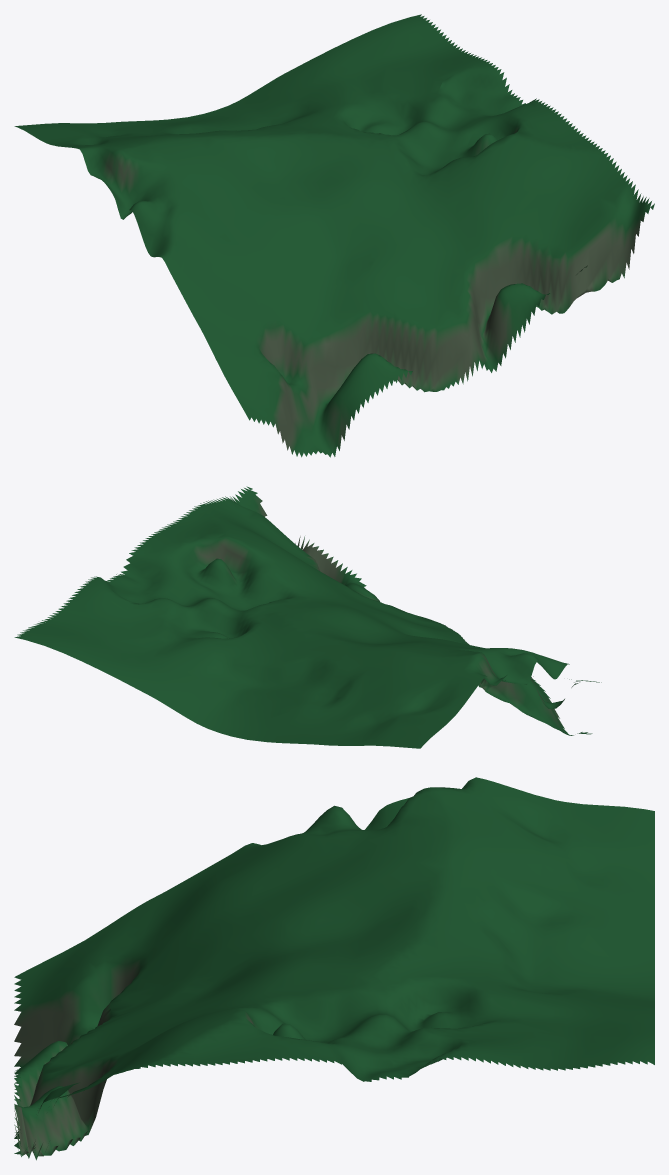
The model's file is payo_land_xm1_ym2_lod1.glb.
The picture shows the model from 3 angles, top to bottom: view 1: azimuth 30°, elevation 25°; view 2: azimuth 150°, elevation 25°; view 3: azimuth 270°, elevation 25°; orthographic projection. The views are drawn at different scales.
Visible parts, largest first — view 1: payo_land_xm1_ym2; view 2: payo_land_xm1_ym2; view 3: payo_land_xm1_ym2.
Boxes of the visible parts, x1=… form: payo_land_xm1_ym2: x1=14, y1=14, x2=654, y2=457; payo_land_xm1_ym2: x1=14, y1=486, x2=601, y2=748; payo_land_xm1_ym2: x1=14, y1=777, x2=654, y2=1160.
Bounding box in the file's own units: 258 × 126 × 258.
